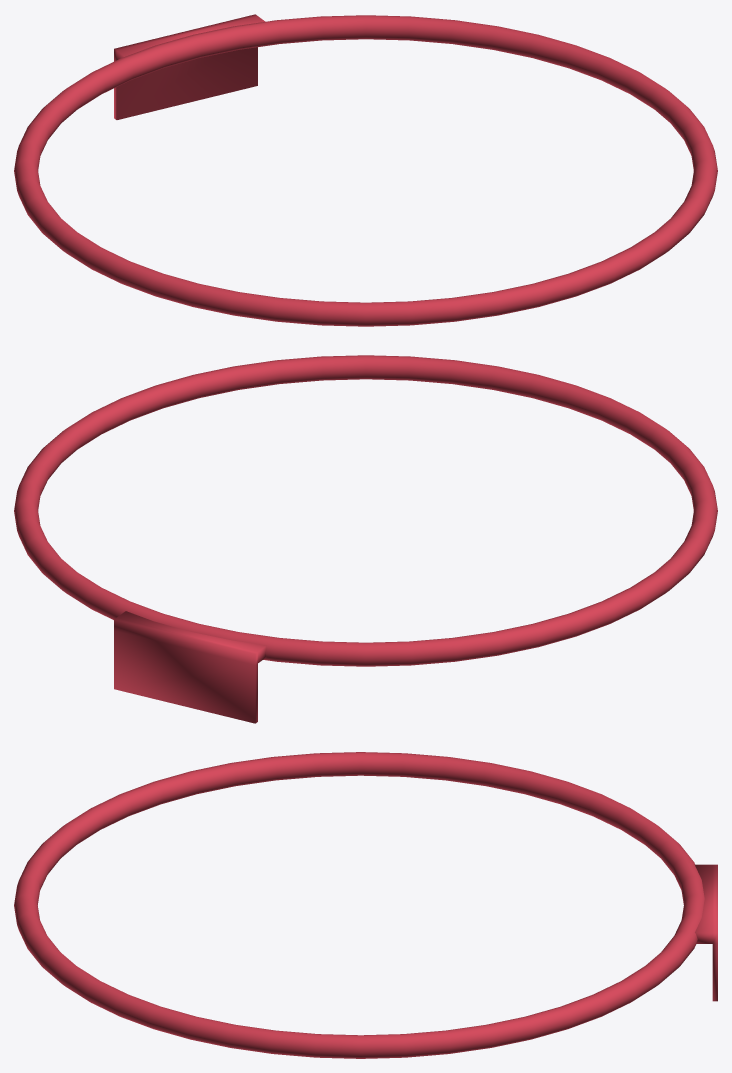
The model's file is BasketGoal.fbx.
3 renders of one model, top to bottom at view 1: azimuth 30°, elevation 25°; view 2: azimuth 150°, elevation 25°; view 3: azimuth 270°, elevation 25°, orthographic.
Parts seen in each view (by area): view 1: BasketGoal; view 2: BasketGoal; view 3: BasketGoal.
Boxes of the visible parts, x1,y1,x2,y2 form: BasketGoal: (14,14,717,326); BasketGoal: (14,355,717,723); BasketGoal: (14,752,717,1058).
Size of the model in its own units: 2.07 by 0.2394 by 2.1.
